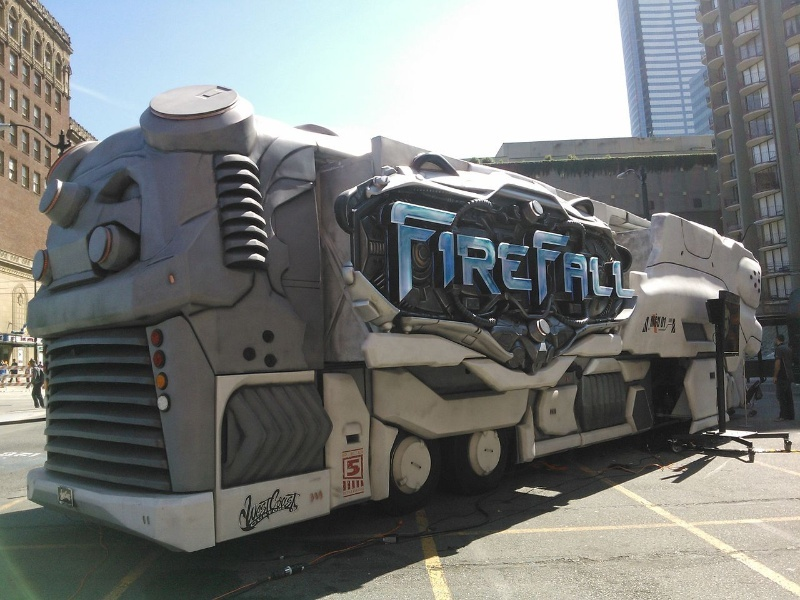text: (401, 197, 416, 304), (417, 197, 432, 304), (433, 197, 448, 304), (449, 197, 464, 304), (465, 197, 480, 304), (481, 197, 496, 304), (497, 197, 512, 304), (513, 197, 528, 304), (545, 228, 560, 309), (561, 228, 576, 309), (577, 228, 592, 309), (593, 228, 608, 309), (609, 228, 624, 309), (390, 197, 400, 304), (532, 228, 544, 309), (625, 228, 637, 309), (257, 485, 272, 529), (273, 485, 288, 529), (529, 197, 535, 304), (243, 485, 256, 529), (289, 485, 302, 529), (353, 458, 361, 477), (353, 486, 366, 497), (341, 486, 352, 497), (657, 316, 667, 328), (353, 449, 364, 458), (347, 458, 352, 477), (342, 449, 352, 458), (651, 316, 656, 328)
